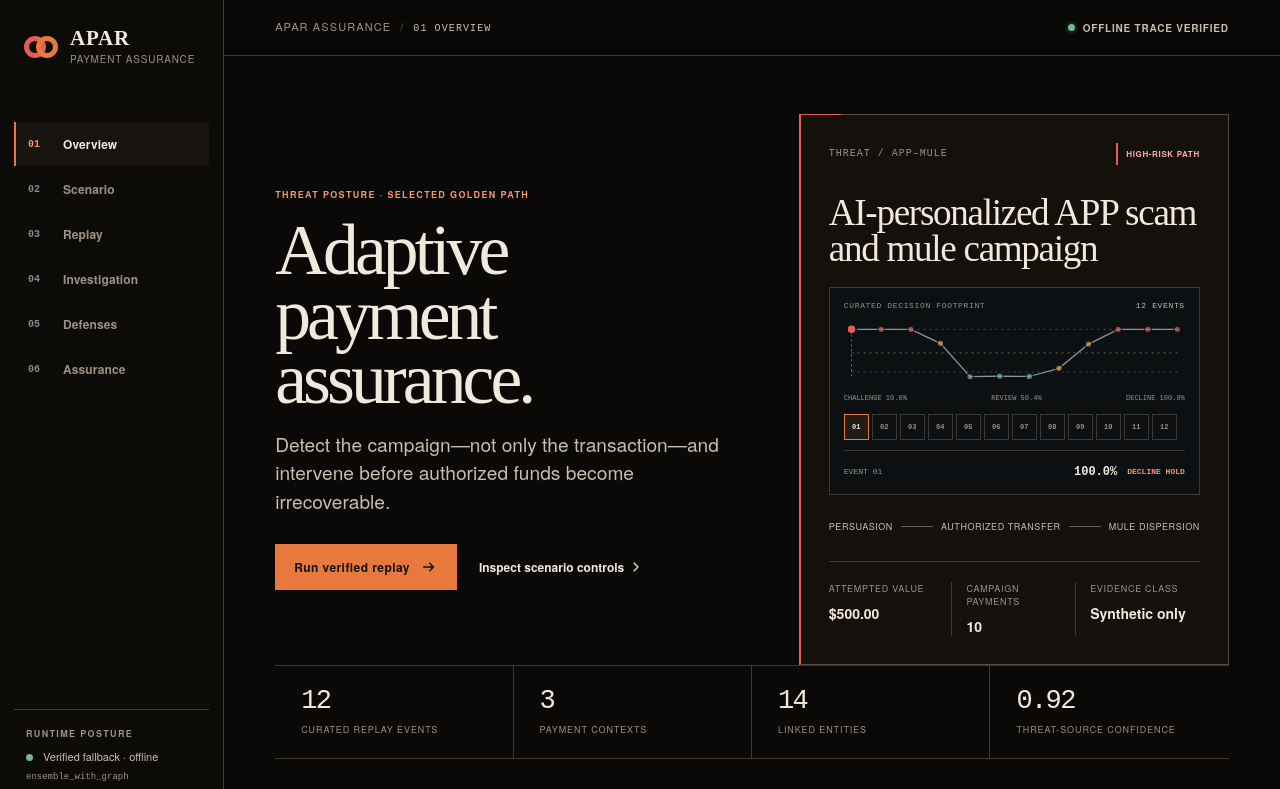
Test: native route boundary › selects configured campaign stages without autoplay
The width and height of the screenshot is (1280, 789).
What coordinates should you click on to do the following:
click the link "02 Scenario"
I would click on:
 (71, 189)
Its box is [28, 180, 115, 198].
(page scrolled)
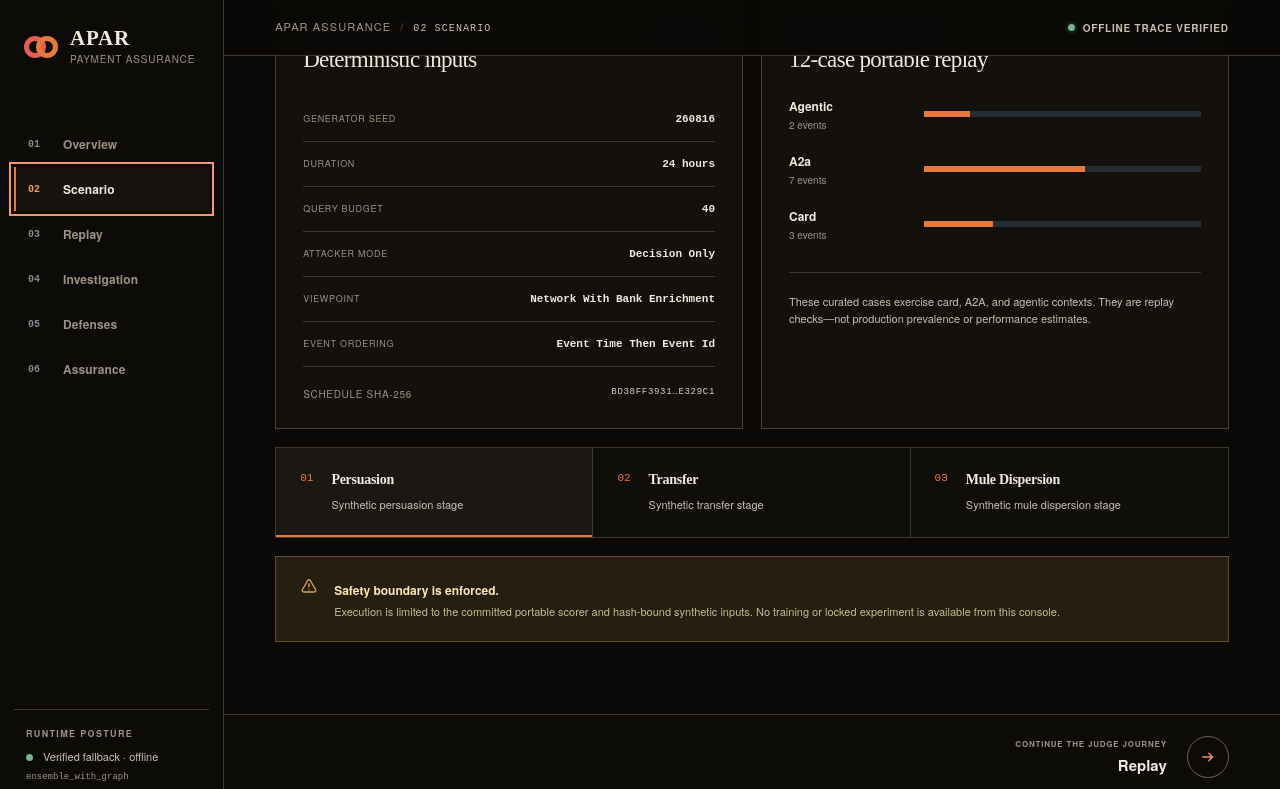
What coordinates should you click on to do the following:
click the button with aria-label "focus campaign stage 2 transfer"
I would click on:
 (673, 479)
Its box is [593, 448, 910, 537].
(page scrolled)
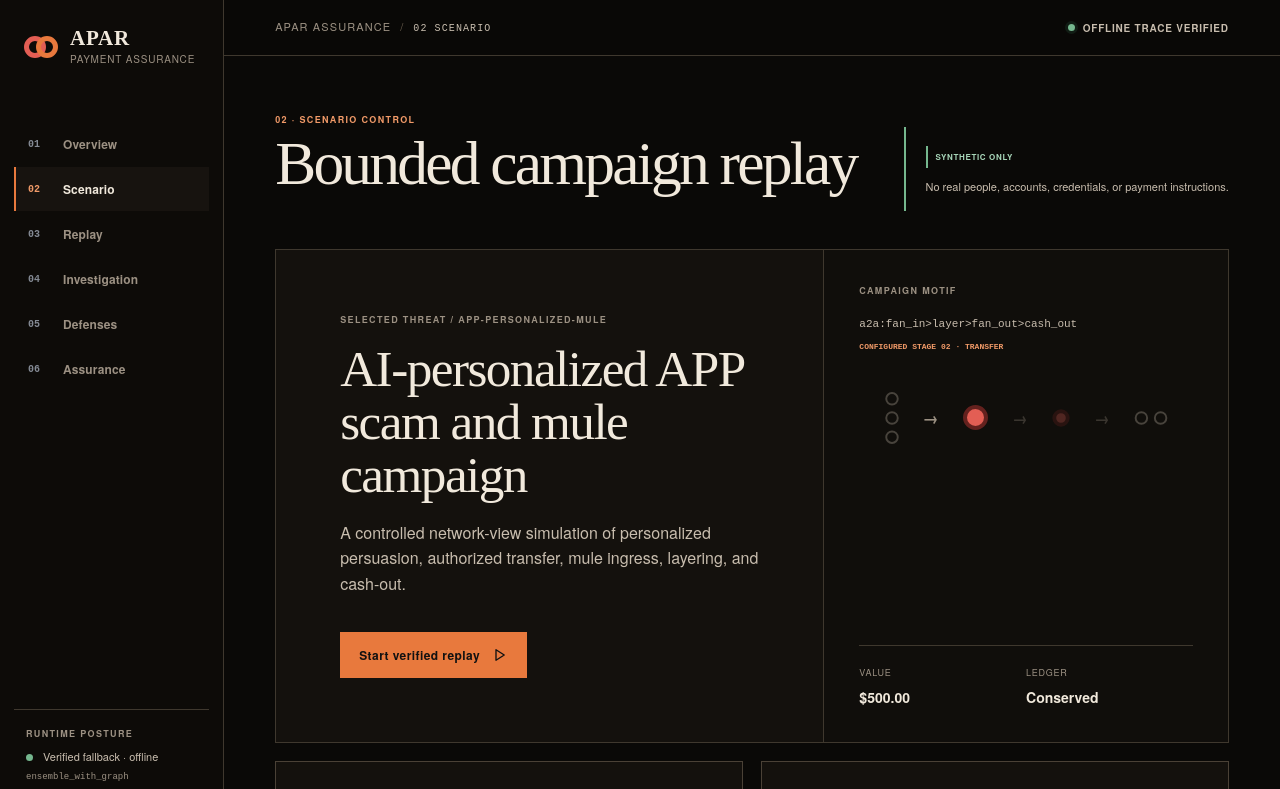
Expected: the text "Configured stage 02 · transfer" is shown, [859, 342, 1003, 351]
